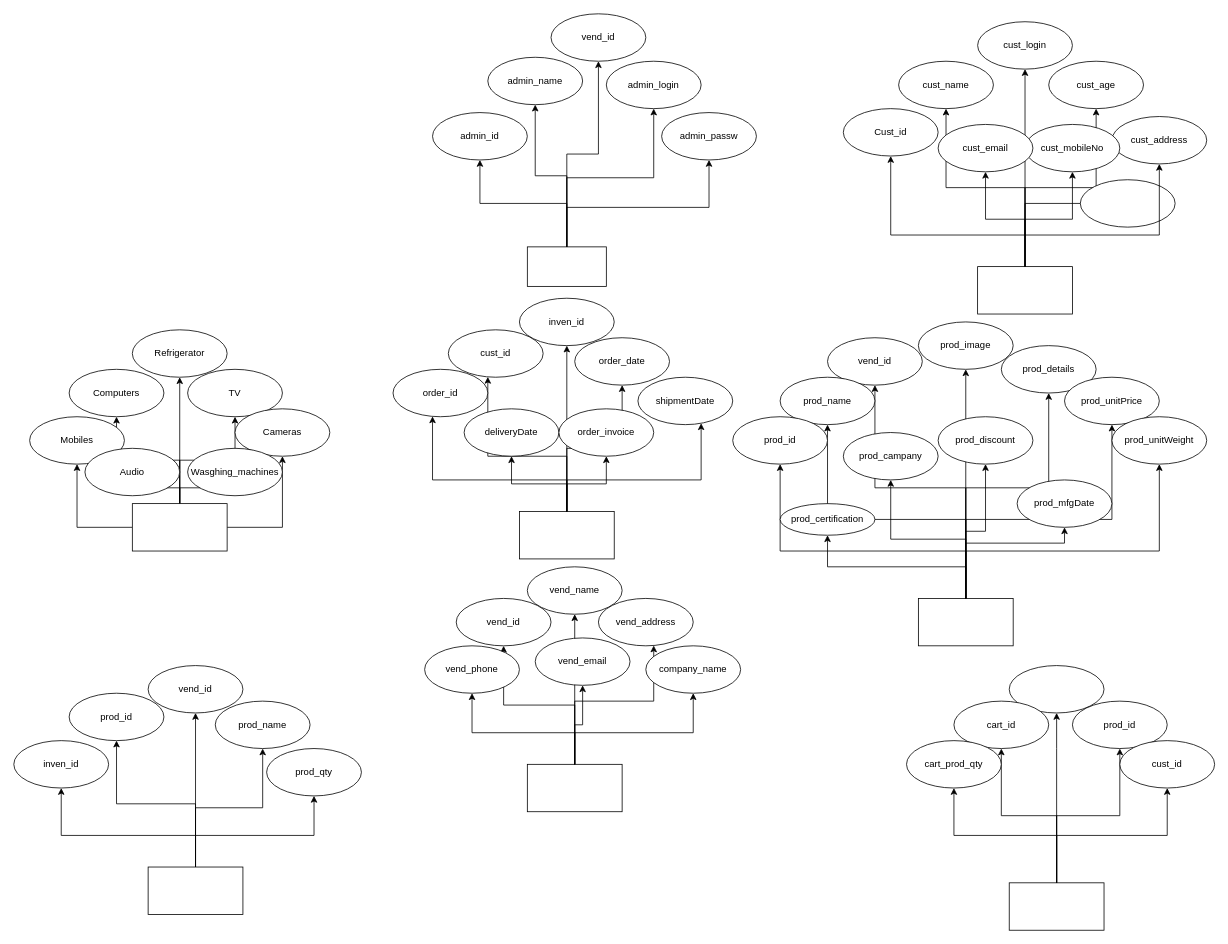
Image size: 1228x944. Some labels were removed from this diagram. The shapes that lost their labels are listed below. From the top down, each one's centre as x and y in pixels, then its label:
the point at 1127,203: cust_gender
the point at 566,266: Administrator
the point at 1024,290: Customer
the point at 179,527: Category
the point at 566,535: Order
the point at 965,622: Product
the point at 574,788: Vendor
the point at 195,890: Inventory
the point at 1056,906: cart
